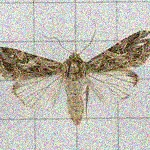Spodoptera litura: (1, 21, 150, 126)
